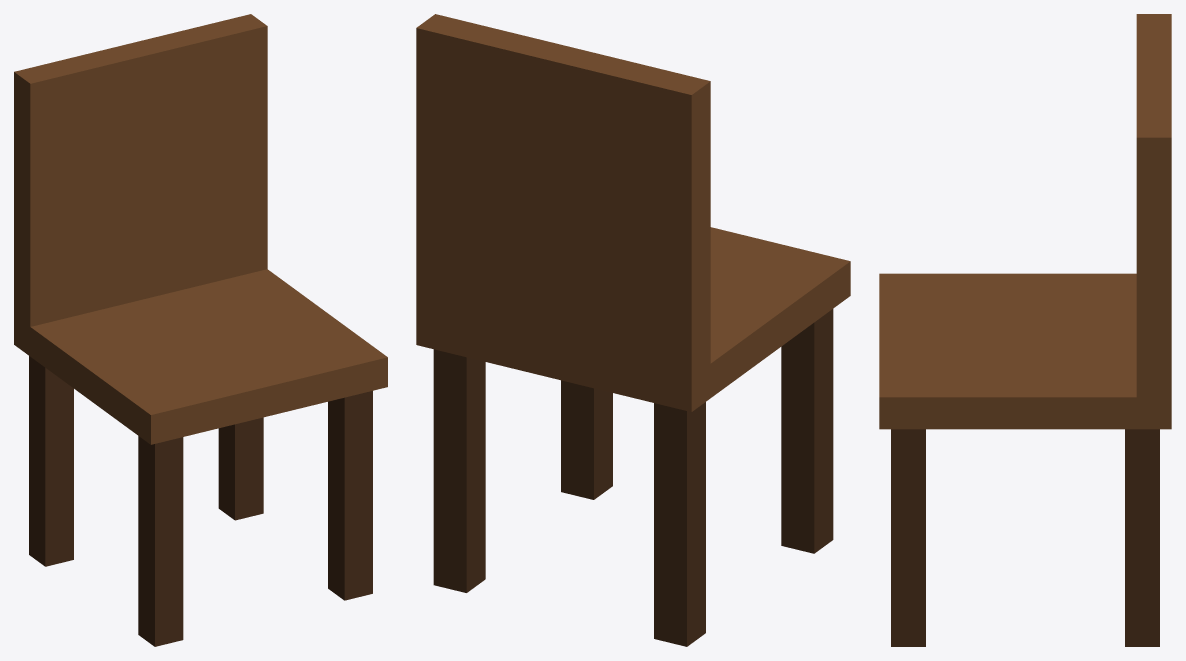
The model's file is chair.c50bf515.glb.
The picture shows the model from 3 angles, left to right: view 1: azimuth 30°, elevation 25°; view 2: azimuth 150°, elevation 25°; view 3: azimuth 270°, elevation 25°; orthographic projection. The views are drawn at different scales.
Visible parts, largest first — view 1: body; view 2: body; view 3: body.
Part boxes in pixels (x1,y1,x2,y2): body: [14, 14, 387, 646]; body: [416, 14, 850, 646]; body: [879, 14, 1171, 646].
Bounding box in the file's own units: 0.5 × 0.97 × 0.5.
